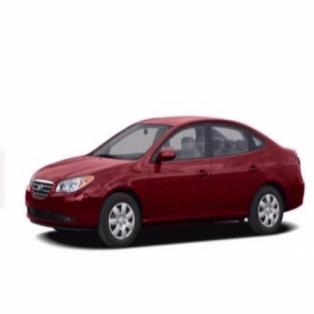Auto: (25, 117, 305, 249)
